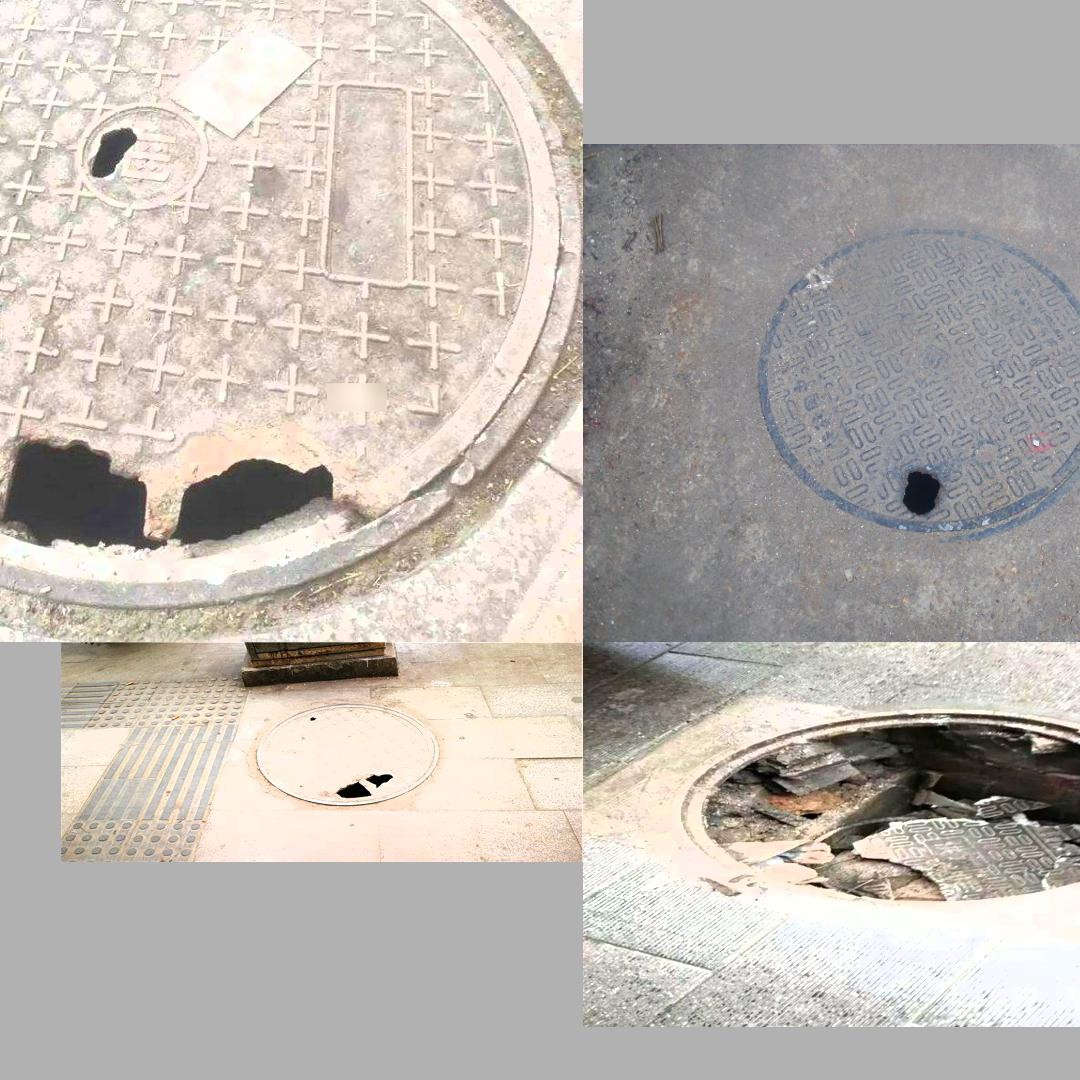broke: (0, 0, 579, 613), (754, 225, 1080, 545), (675, 702, 1080, 925), (256, 701, 438, 805)
